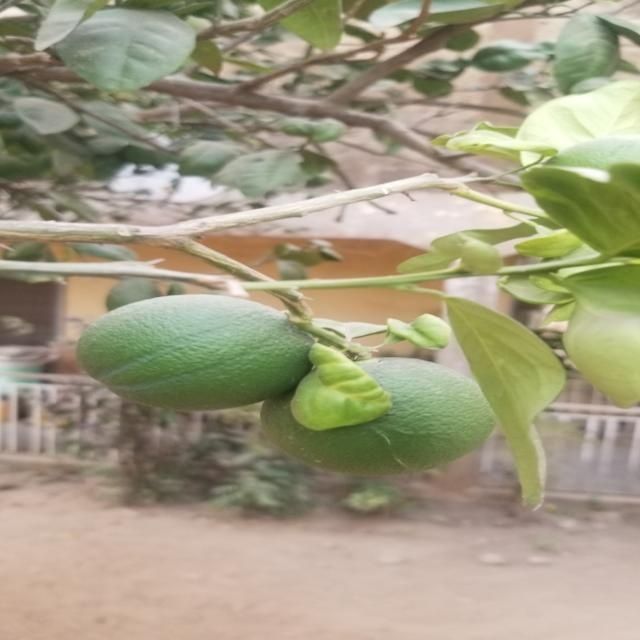agrume: (52, 286, 327, 414), (258, 351, 500, 481)
